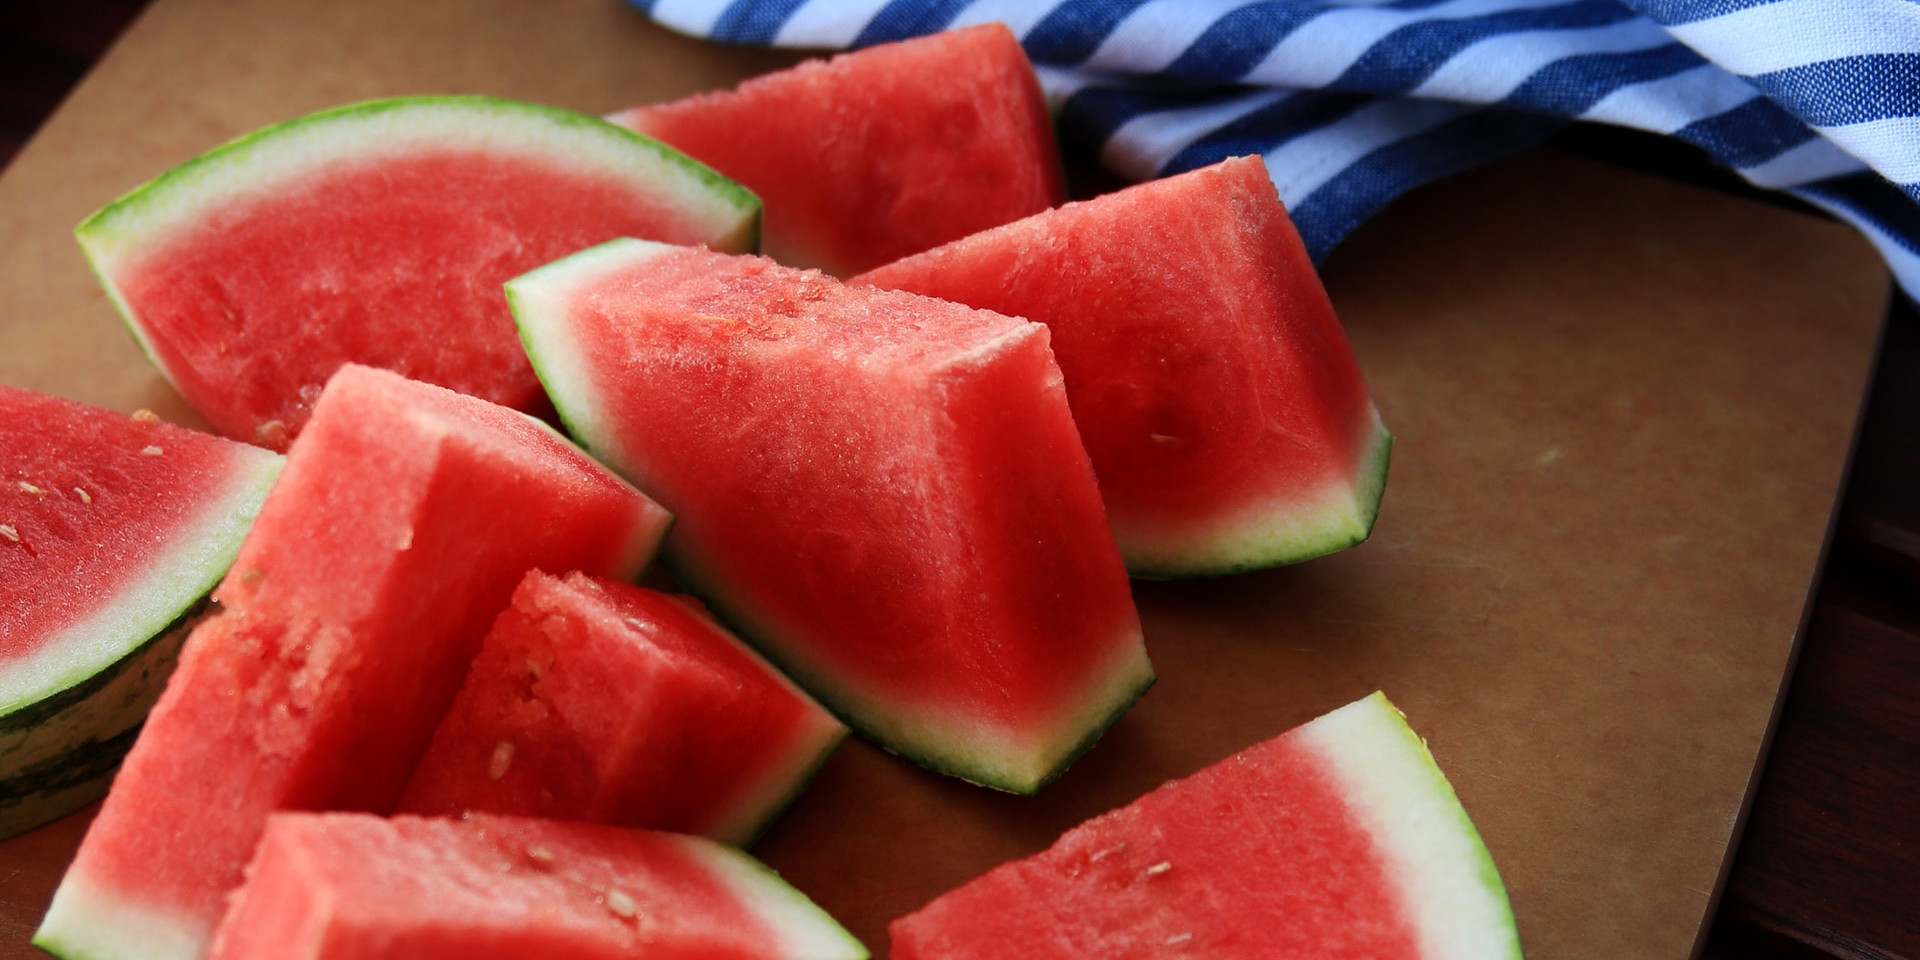Semangka: (482, 202, 1120, 733), (834, 680, 1604, 960), (116, 386, 587, 842), (1019, 158, 1430, 482)
